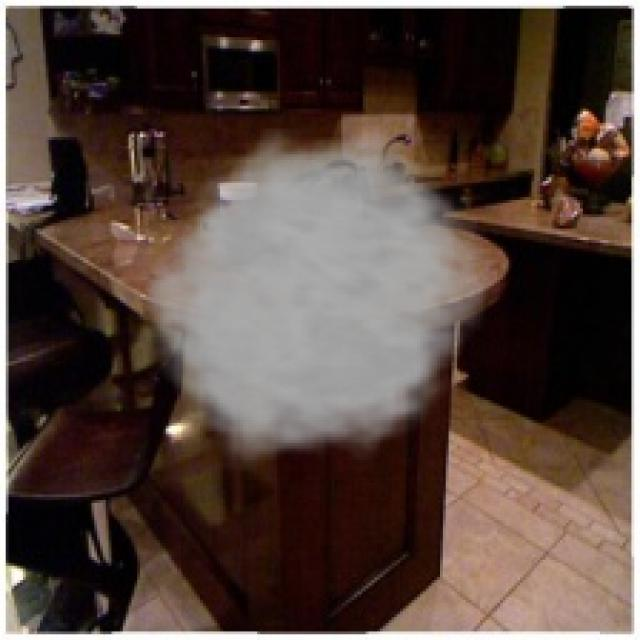smoke: (131, 129, 506, 474)
